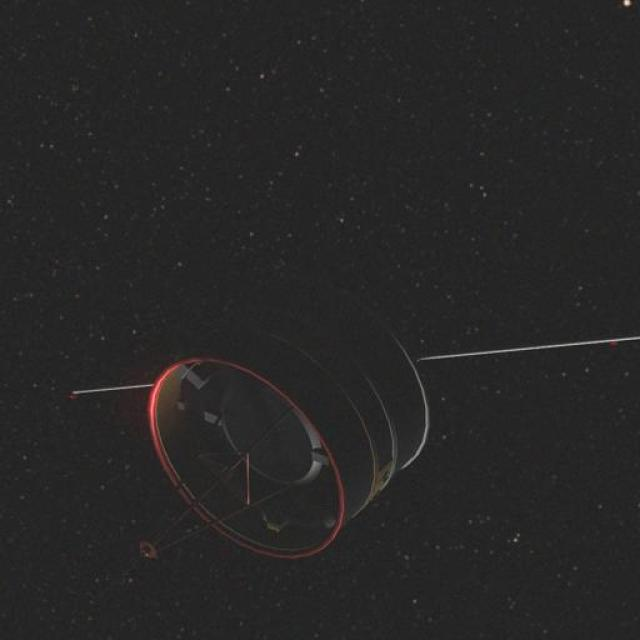double_start: (138, 255, 462, 561)
